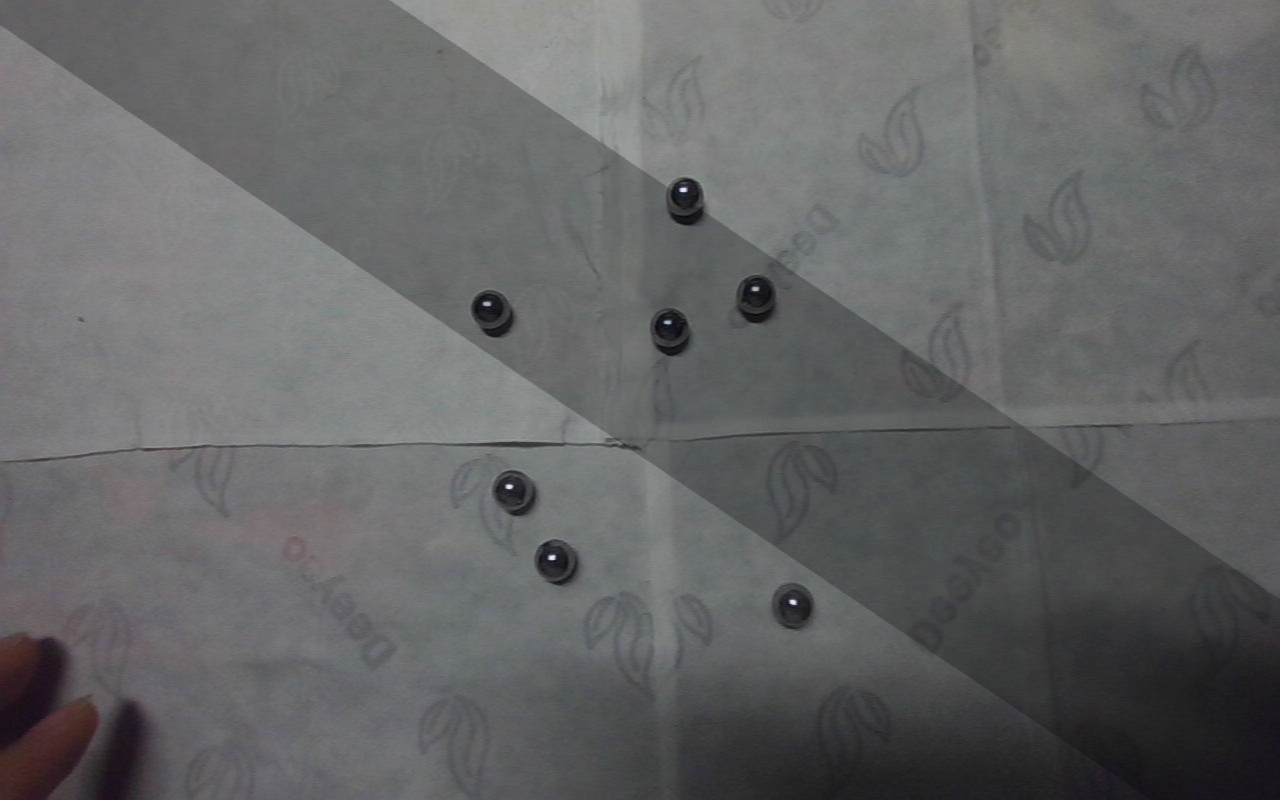ball: (645, 298, 698, 355), (467, 284, 518, 336), (531, 534, 581, 587), (770, 579, 818, 634), (734, 274, 783, 327), (663, 170, 709, 222), (493, 468, 536, 516)
